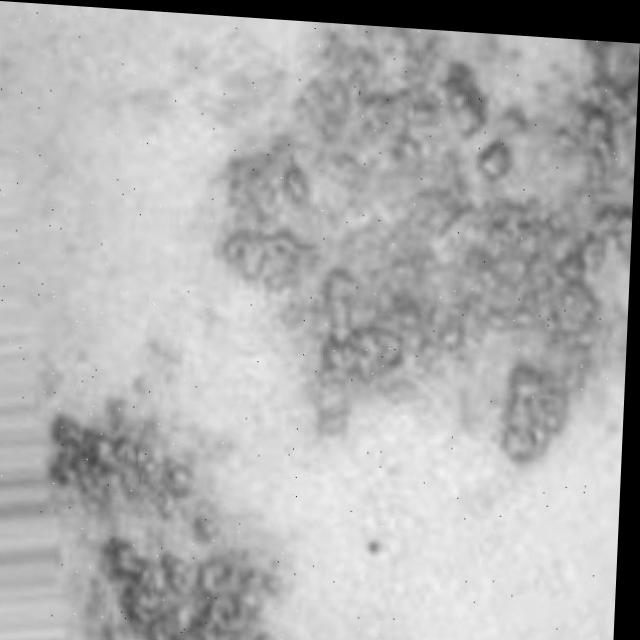Shingles: (197, 15, 640, 467), (37, 386, 294, 640)
